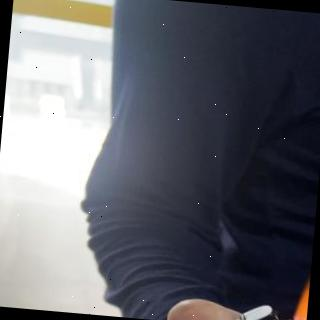fire: (290, 275, 310, 320)
